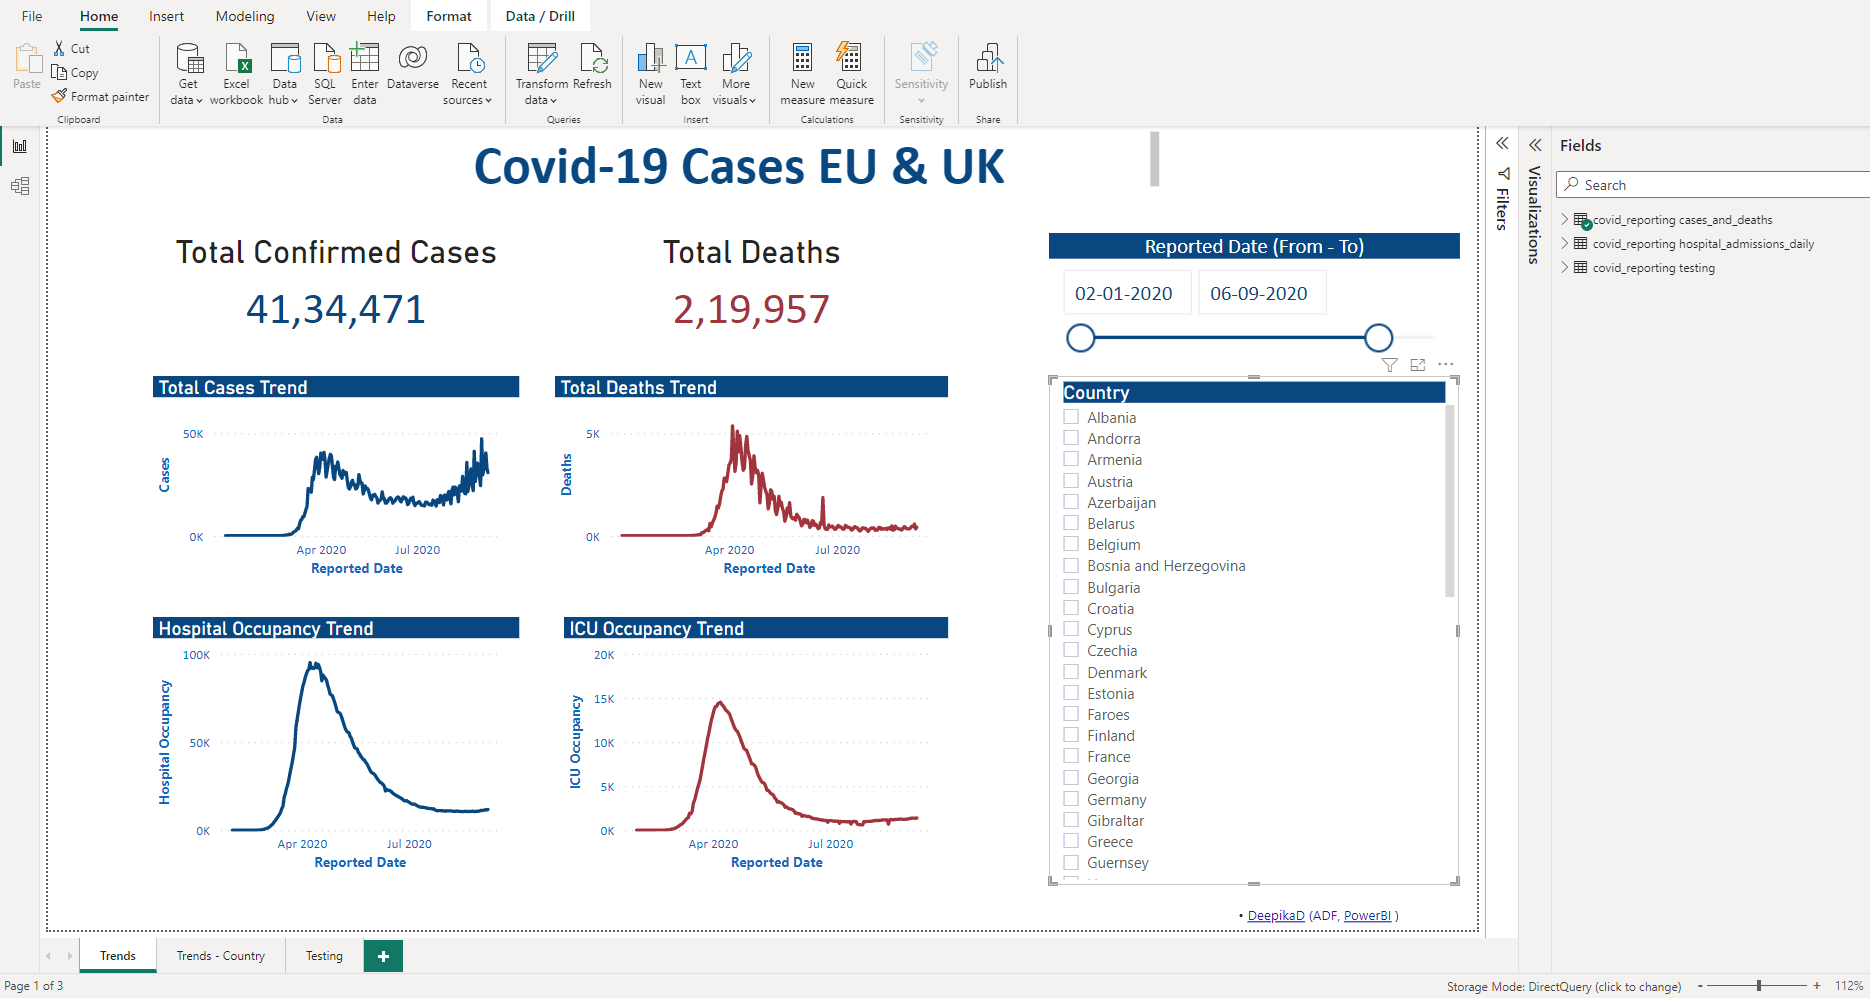

What the dashboard file says about the page in this screenshot:
{"tool":"powerbi","page":{"name":"Trends","canvas":[1280,720],"ordinal":0},"visuals":[{"type":"card","title":"Total Confirmed Cases","fields":{"Values":["Sum(covid_reporting cases_and_deaths.cases_count)"]},"box":[94.4,96,328,96],"z":0},{"type":"card","title":"Total Deaths","fields":{"Values":["Sum(covid_reporting cases_and_deaths.deaths_count)"]},"box":[454.4,96,352,96],"z":1000},{"type":"textbox","box":[376,0,624,64],"z":2000},{"type":"lineChart","title":"Total Cases Trend","fields":{"Category":["covid_reporting cases_and_deaths.reported_date"],"Y":["Sum(covid_reporting cases_and_deaths.cases_count)"]},"box":[94.4,224,328,184],"z":3000},{"type":"lineChart","title":"Total Deaths Trend","fields":{"Category":["covid_reporting cases_and_deaths.reported_date"],"Y":["Sum(covid_reporting cases_and_deaths.deaths_count)"]},"box":[454.4,224,352,184],"z":4000},{"type":"slicer","fields":{"Values":["covid_reporting cases_and_deaths.country"]},"box":[896,224,368,456],"z":5000},{"type":"lineChart","title":"Hospital Occupancy Trend","fields":{"Y":["Sum(covid_reporting hospital_admissions_daily.hospital_occupancy_count)"],"Category":["covid_reporting hospital_admissions_daily.reported_date"]},"box":[94.4,440,328,232],"z":6000},{"type":"lineChart","title":"ICU Occupancy Trend","fields":{"Y":["Sum(covid_reporting hospital_admissions_daily.icu_occupancy_count)"],"Category":["covid_reporting hospital_admissions_daily.reported_date"]},"box":[462.4,440,344,232],"z":7000},{"type":"slicer","title":"Reported Date (From - To)","fields":{"Values":["covid_reporting cases_and_deaths.reported_date"]},"box":[896,96,368,112],"z":8001},{"type":"textbox","box":[1051.4,693.5,228.6,26.3],"z":8002}]}

Visuals, with their boxes on the page's 1280x720 design canvas (x1, y1, x2, y2). These are canvas units, not pixel positions in the 1870x998 screenshot, which may show the page scaled, cropped or inside an application window:
"Total Confirmed Cases" card: detection(94, 96, 422, 192)
"Total Deaths" card: detection(454, 96, 806, 192)
textbox: detection(376, 0, 1000, 64)
"Total Cases Trend" lineChart: detection(94, 224, 422, 408)
"Total Deaths Trend" lineChart: detection(454, 224, 806, 408)
slicer - covid_reporting cases_and_deaths.country: detection(896, 224, 1264, 680)
"Hospital Occupancy Trend" lineChart: detection(94, 440, 422, 672)
"ICU Occupancy Trend" lineChart: detection(462, 440, 806, 672)
"Reported Date (From - To)" slicer: detection(896, 96, 1264, 208)
textbox: detection(1051, 694, 1280, 720)
